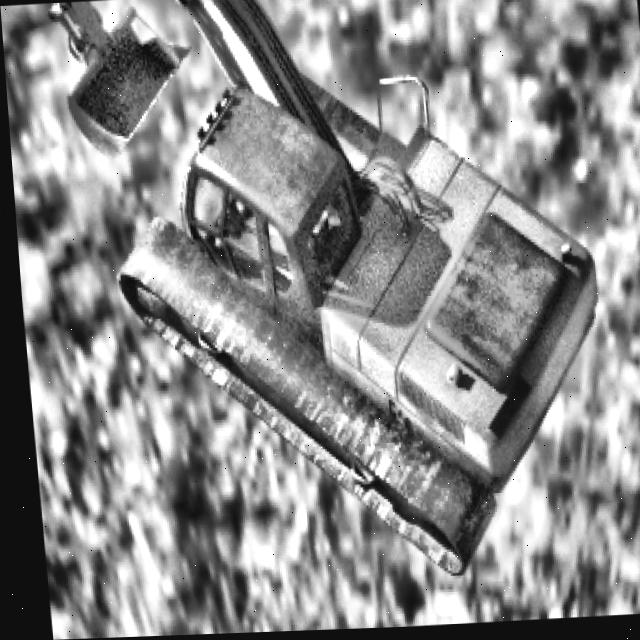excavator: (0, 0, 611, 594)
